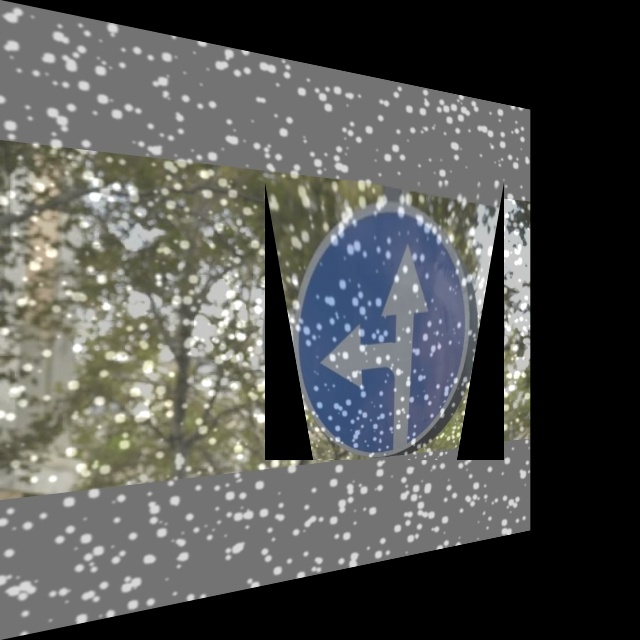Compulsory_Ahead_or_Turn_Left: (265, 182, 504, 460)
